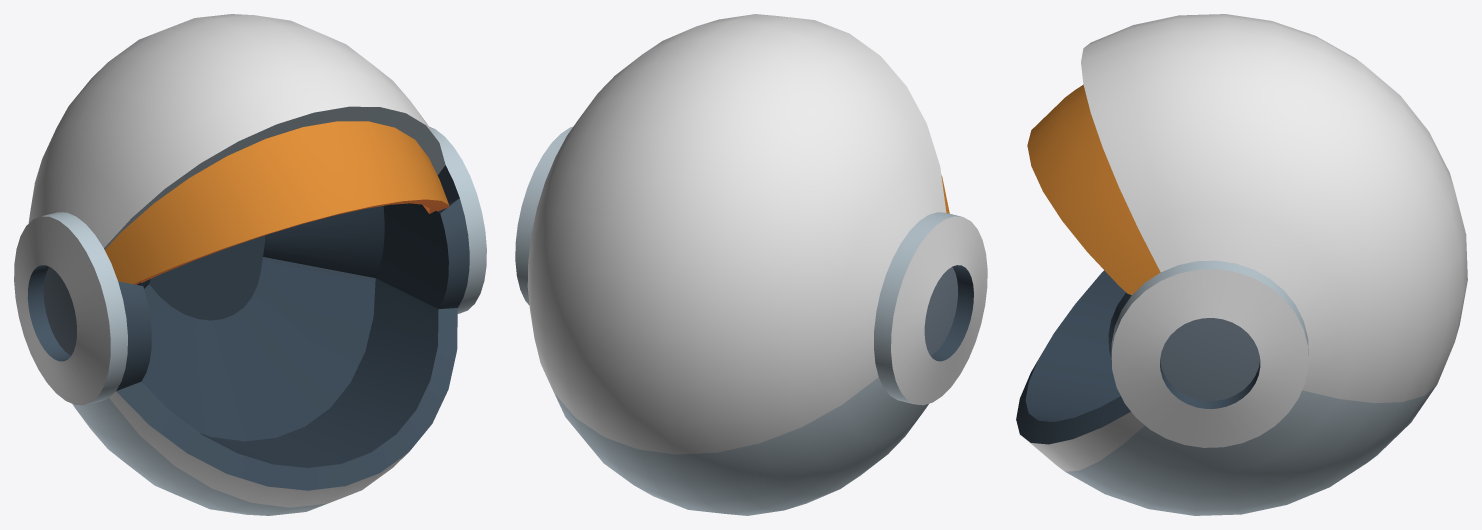
Rendered from astroHelmet.fbx.
3 views of the same model, side by side, from view 1: azimuth 30°, elevation 25°; view 2: azimuth 150°, elevation 25°; view 3: azimuth 270°, elevation 25° (orthographic). The views are drawn at different scales.
Parts seen in each view (by area): view 1: astroHelmet; view 2: astroHelmet; view 3: astroHelmet.
Boxes of the visible parts, x1=… form: astroHelmet: x1=14, y1=14, x2=486, y2=515; astroHelmet: x1=515, y1=14, x2=987, y2=515; astroHelmet: x1=1016, y1=14, x2=1467, y2=515.
Bounding box in the file's own units: 126 × 139 × 122.
